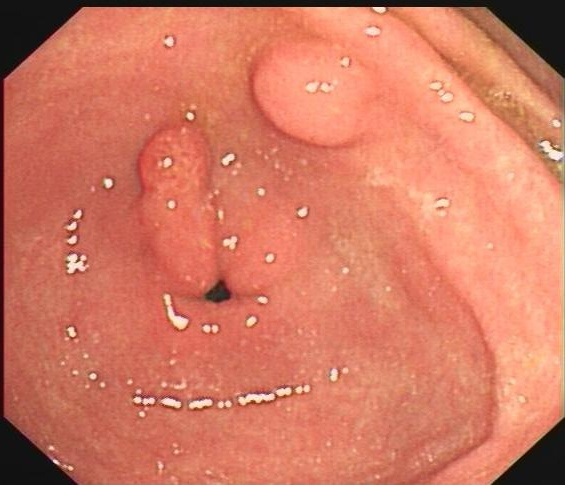Polyp: (243, 46, 380, 152), (138, 113, 221, 199)
